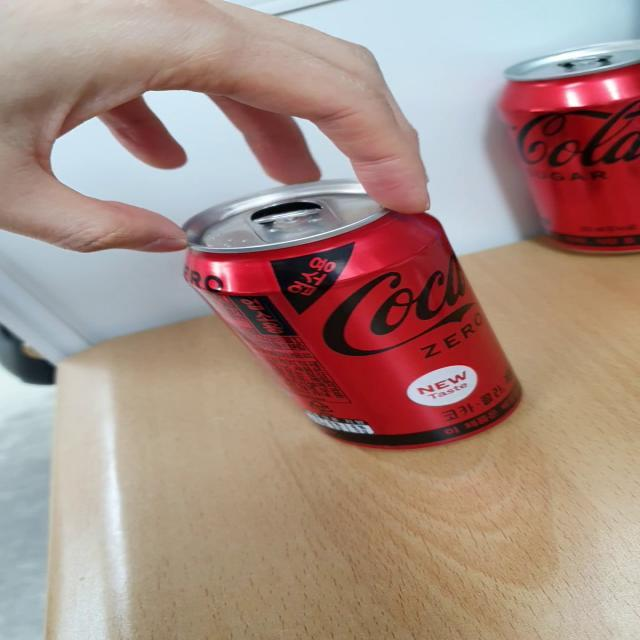coca-cola: (173, 168, 539, 468), (484, 34, 640, 262)
